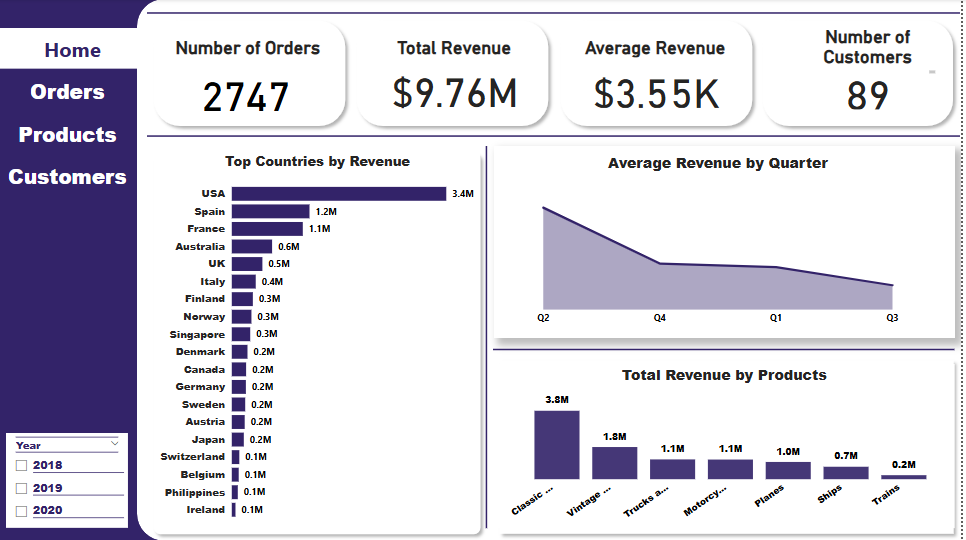

What the dashboard file says about the page in this screenshot:
{"tool":"powerbi","page":{"name":"Home","canvas":[1280,720],"ordinal":0},"visuals":[{"type":"shape","box":[739.9,20.1,272.4,157.9],"z":0,"group":"g1"},{"type":"actionButton","box":[640,36.3,152.9,52],"z":0},{"type":"shape","box":[1009.2,20.1,270.9,157.9],"z":1000,"group":"g1"},{"type":"shape","box":[766.1,244.3,290,138.7],"z":1000},{"type":"shape","box":[0,0,778.5,719.7],"z":2000},{"type":"shape","box":[469,20.1,272.4,157.9],"z":2000,"group":"g1"},{"type":"shape","box":[185.7,0,1094.3,719.7],"z":3000},{"type":"shape","box":[199.7,20.1,272.4,157.9],"z":3000,"group":"g1"},{"type":"actionButton","box":[1.5,38,197.6,54.1],"z":4000},{"type":"textbox","title":"Number of Orders","box":[208.4,50.9,249.2,29.4],"z":4000,"group":"g1"},{"type":"actionButton","box":[1.1,94.6,184.4,54.1],"z":5000},{"type":"textbox","title":"Total Revenue","box":[489.1,51.1,249.2,29.4],"z":6000},{"type":"actionButton","box":[1.1,207.8,184.4,54.1],"z":7000},{"type":"actionButton","box":[1.1,151.2,184.4,54.1],"z":8000},{"type":"group","id":"g1","title":"Group 1","box":[199.7,20.1,1080.3,157.9],"z":9000},{"type":"card","fields":{"Values":["Orders.NumberOf Orders"]},"box":[230.6,85.1,198.1,74.3],"z":10000},{"type":"textbox","title":"Total Revenue","box":[489.1,51.1,236.8,29.4],"z":11000},{"type":"textbox","title":"Average Revenue","box":[760,51.1,229.1,29.4],"z":12000},{"type":"textbox","title":"Number of Customers","box":[1061.8,35.6,190.4,68.1],"z":13000},{"type":"card","fields":{"Values":["Orders.Total Revenue"]},"box":[501.5,85.1,215.1,65],"z":14000},{"type":"card","fields":{"Values":["Orders.AVG Sales"]},"box":[778.5,88.2,195,61.9],"z":15000},{"type":"card","fields":{"Values":["Customers.NumberOf Customers"]},"box":[1114.4,91.3,85.1,60.4],"z":16000},{"type":"shape","box":[199,36.6,1080,289.8],"z":17000},{"type":"shape","box":[501.5,195,298.7,507.7],"z":18000},{"type":"shape","box":[199.7,195,451.9,524.7],"z":19000},{"type":"clusteredBarChart","title":"Top Countries by Revenue","fields":{"Category":["Customers.Country"],"Y":["Sum(Orders.Sales)"]},"box":[209.3,203.4,431.7,499],"z":20000},{"type":"shape","box":[660,194.6,611.7,254.6],"z":21000},{"type":"stackedAreaChart","title":"Average Revenue by Quarter","fields":{"Category":["Orders.Quarter"],"Y":["Avg(Orders.Sales)"]},"box":[659.3,202.8,597.4,238.4],"z":22000},{"type":"shape","box":[658.5,336.6,613.2,259],"z":23000},{"type":"shape","box":[659.3,472.1,620.7,247.6],"z":24000},{"type":"clusteredColumnChart","title":"Total Revenue by Products","fields":{"Category":["Products.Product Line"],"Y":["Sum(Orders.Sales)"]},"box":[660,484.4,611.7,218],"z":25000},{"type":"shape","box":[199.7,0,1080.3,37.1],"z":26000},{"type":"slicer","fields":{"Values":["Orders.Year"]},"box":[11.7,576.6,162.4,125.9],"z":26001}]}

Visuals, with their boxes in screenshot pixels (x1, y1, x2, y2), scaled from the page's 1280x720 canvas onto the 966x540 screenshot:
shape: bbox(558, 15, 764, 134)
actionButton: bbox(483, 27, 598, 66)
shape: bbox(762, 15, 965, 134)
shape: bbox(578, 183, 797, 287)
shape: bbox(0, 0, 588, 539)
shape: bbox(354, 15, 560, 134)
shape: bbox(140, 0, 965, 539)
shape: bbox(151, 15, 356, 134)
actionButton: bbox(1, 28, 150, 69)
"Number of Orders" textbox: bbox(157, 38, 345, 60)
actionButton: bbox(1, 71, 140, 112)
"Total Revenue" textbox: bbox(369, 38, 557, 60)
actionButton: bbox(1, 156, 140, 196)
actionButton: bbox(1, 113, 140, 154)
"Group 1" group: bbox(151, 15, 965, 134)
card - Orders.NumberOf Orders: bbox(174, 64, 324, 120)
"Total Revenue" textbox: bbox(369, 38, 548, 60)
"Average Revenue" textbox: bbox(574, 38, 746, 60)
"Number of Customers" textbox: bbox(801, 27, 945, 78)
card - Orders.Total Revenue: bbox(378, 64, 541, 113)
card - Orders.AVG Sales: bbox(588, 66, 735, 113)
card - Customers.NumberOf Customers: bbox(841, 68, 905, 114)
shape: bbox(150, 27, 965, 245)
shape: bbox(378, 146, 604, 527)
shape: bbox(151, 146, 492, 539)
"Top Countries by Revenue" clusteredBarChart: bbox(158, 153, 484, 527)
shape: bbox(498, 146, 960, 337)
"Average Revenue by Quarter" stackedAreaChart: bbox(498, 152, 948, 331)
shape: bbox(497, 252, 960, 447)
shape: bbox(498, 354, 965, 539)
"Total Revenue by Products" clusteredColumnChart: bbox(498, 363, 960, 527)
shape: bbox(151, 0, 965, 28)
slicer - Orders.Year: bbox(9, 432, 131, 527)
